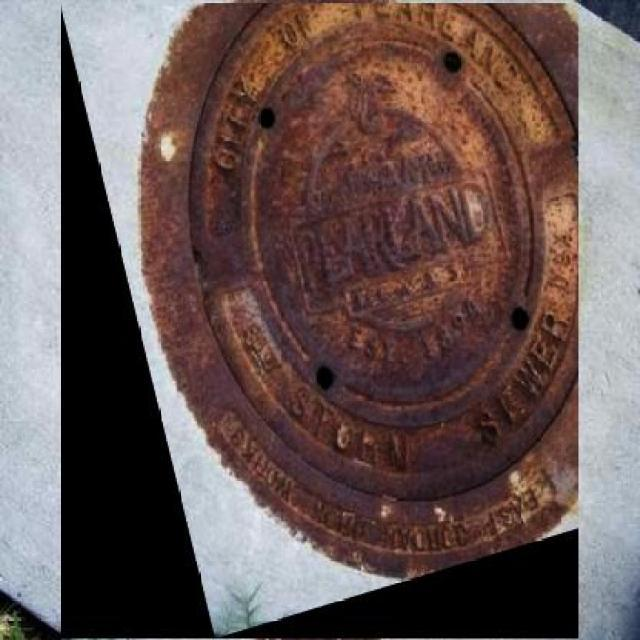Manhole: (59, 3, 578, 639)
